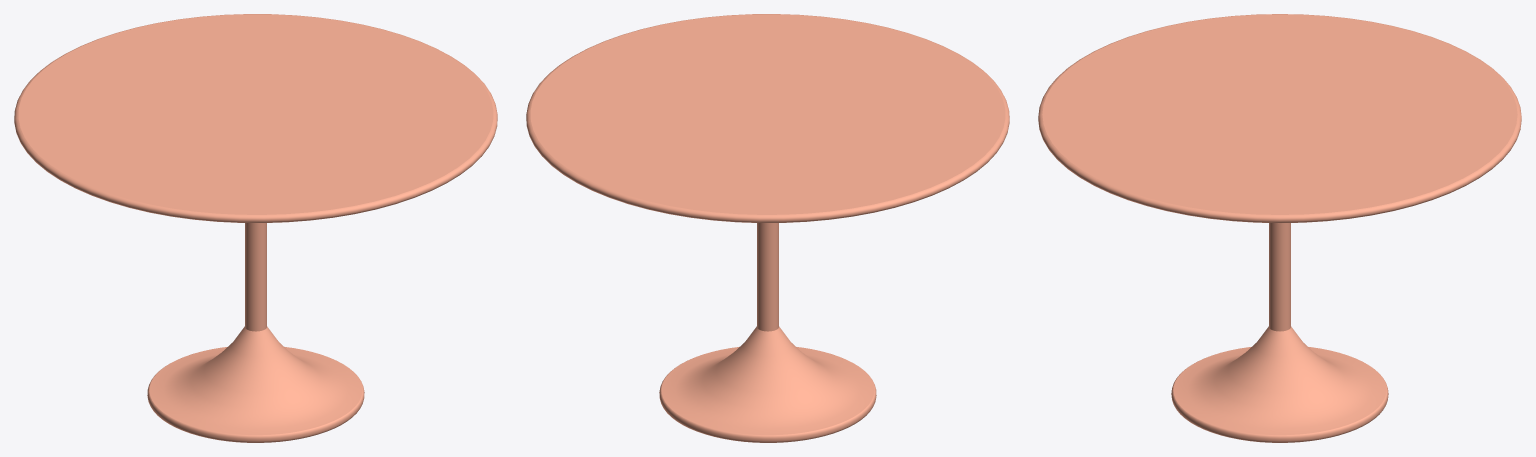
3 renders of one model, left to right at view 1: azimuth 30°, elevation 25°; view 2: azimuth 150°, elevation 25°; view 3: azimuth 270°, elevation 25°, orthographic.
Parts seen in each view (by area): view 1: Object_0; view 2: Object_0; view 3: Object_0.
Part boxes in pixels (box(x1,y1,x2,y2)): Object_0: box(14, 14, 497, 442); Object_0: box(526, 14, 1009, 442); Object_0: box(1038, 14, 1521, 442).
Size of the model in its own units: 105 by 67.94 by 105.
